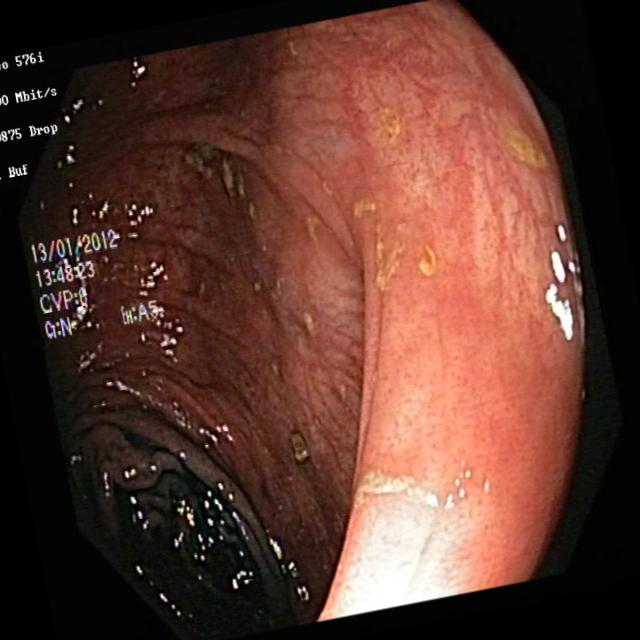ulcerative-colities: (167, 117, 278, 221), (367, 209, 456, 300), (493, 102, 562, 186), (351, 80, 385, 194)
